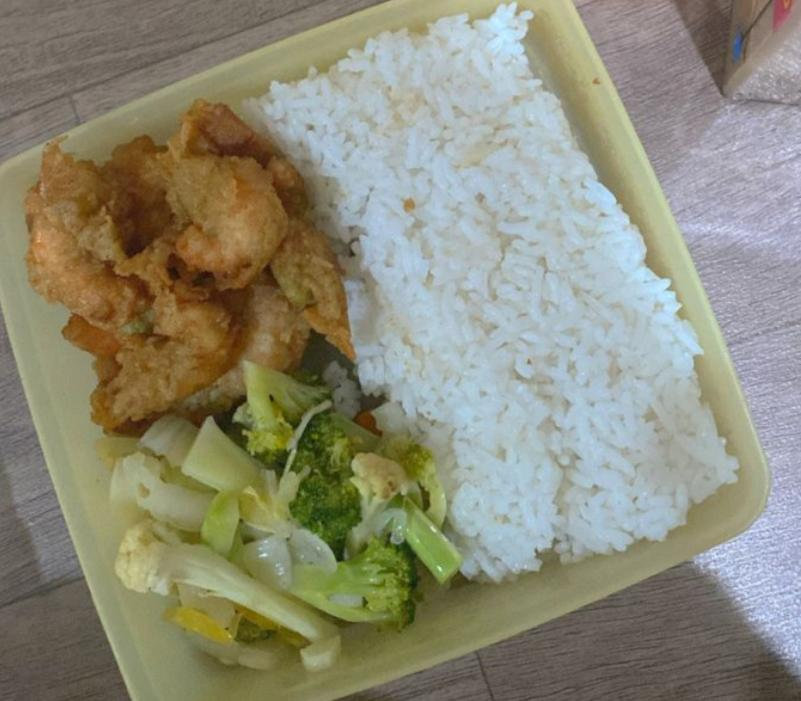buah_sayur_lainnya: (182, 434, 369, 642)
daging: (58, 163, 285, 357)
makanan_berpati: (427, 114, 581, 454)
